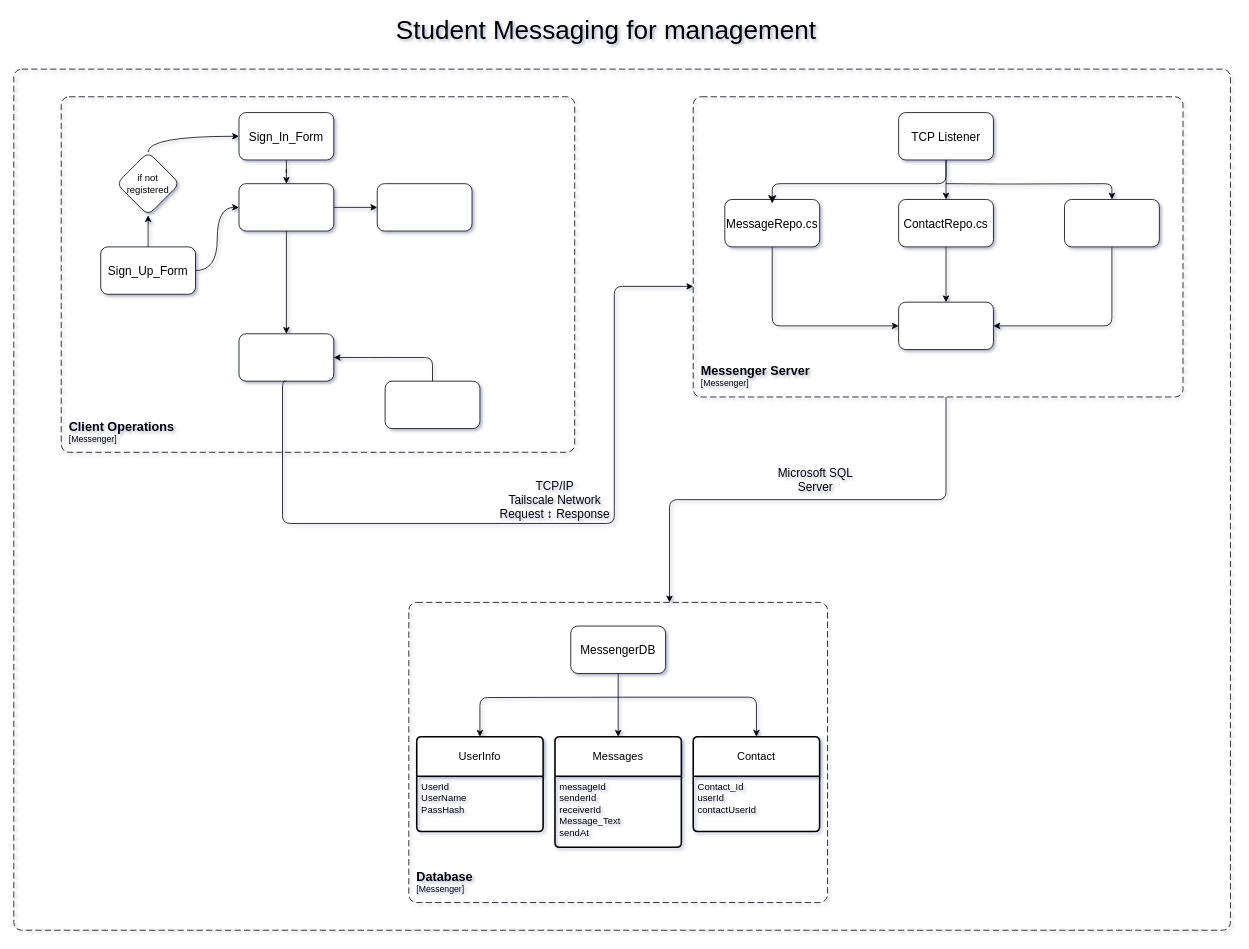
The diagram is 1249 pixels wide and 949 high, and some of its shapes have lost their labels. Here are the shapes that lost their labels. From the top down, the centre of each, then its label:
At point (286, 207): "Main_Form".
At point (424, 207): "Search_Form".
At point (1111, 223): "UserRepository.cs".
At point (945, 325): "Database.cs".
At point (286, 357): "Client.cs".
At point (432, 404): "Message.cs".
